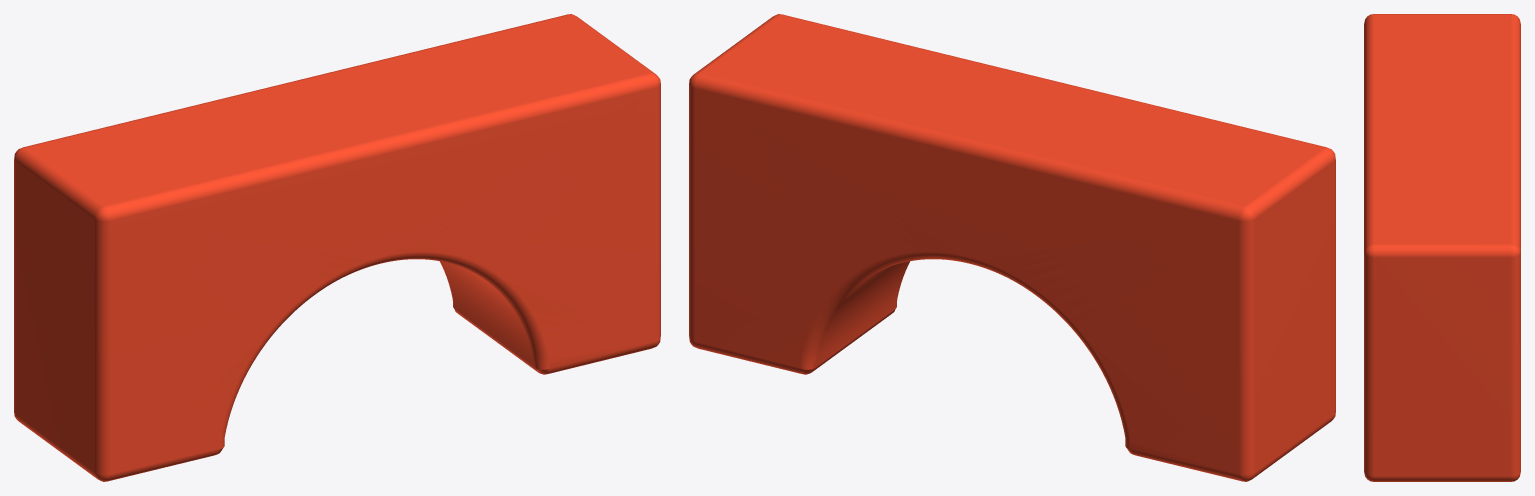
File: Arch.glb
The picture shows the model from 3 angles, left to right: view 1: azimuth 30°, elevation 25°; view 2: azimuth 150°, elevation 25°; view 3: azimuth 270°, elevation 25°; orthographic projection. The views are drawn at different scales.
Parts seen in each view (by area): view 1: Arch; view 2: Arch; view 3: Arch.
Part boxes in pixels (left/top/right/bottom): Arch: left=14, top=14, right=660, bottom=481; Arch: left=689, top=14, right=1335, bottom=481; Arch: left=1364, top=14, right=1520, bottom=481.
Bounding box in the file's own units: 0.215 × 0.1 × 0.06.
